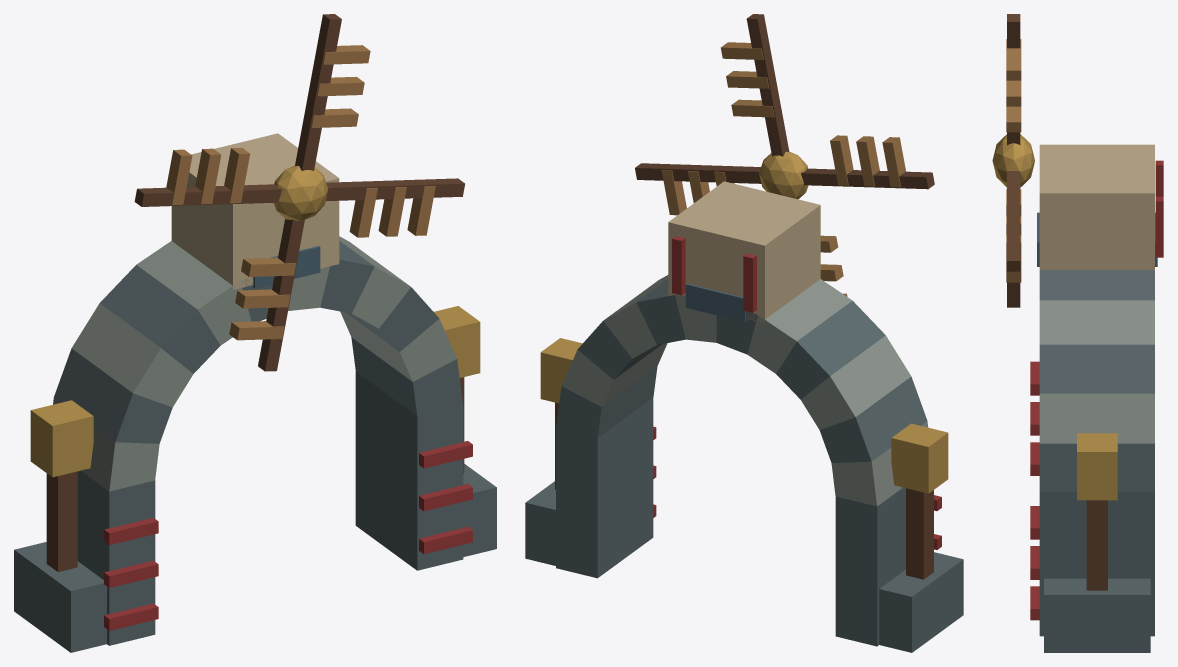
Rendered from PirateCove_WindmillGate_Showcase.glb.
3 views of the same model, side by side, from view 1: azimuth 30°, elevation 25°; view 2: azimuth 150°, elevation 25°; view 3: azimuth 270°, elevation 25° (orthographic). The views are drawn at different scales.
Visible parts, largest first — view 1: PirateCove_WindmillGate_Showcase; view 2: PirateCove_WindmillGate_Showcase; view 3: PirateCove_WindmillGate_Showcase.
Boxes of the visible parts, x1,y1,x2,y2 form: PirateCove_WindmillGate_Showcase: (14, 14, 496, 652); PirateCove_WindmillGate_Showcase: (525, 14, 963, 652); PirateCove_WindmillGate_Showcase: (992, 14, 1163, 652).
Size of the model in its own units: 2.61 by 3.44 by 0.9625.
